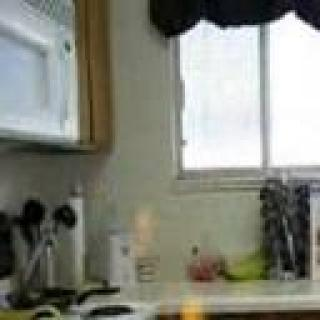fire: (133, 308, 271, 320)
